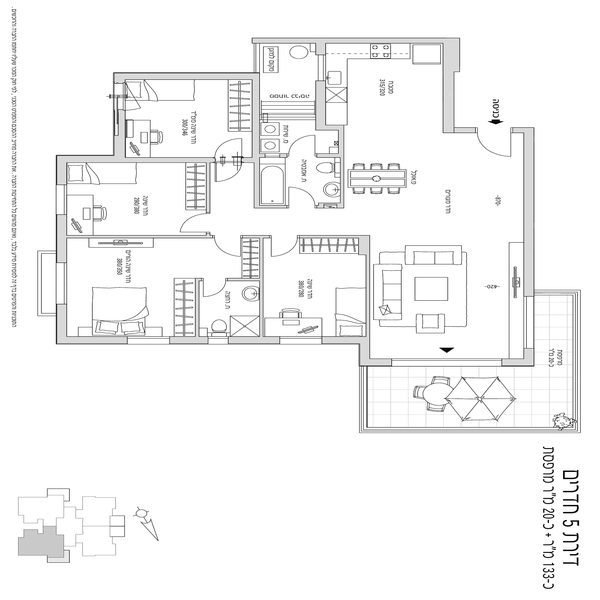door: (477, 128, 514, 162), (265, 233, 298, 270), (212, 134, 248, 164), (284, 185, 319, 215), (175, 207, 213, 234), (211, 161, 247, 187), (286, 131, 317, 160), (198, 271, 226, 302), (213, 237, 244, 261)
room: (361, 221, 547, 372), (51, 232, 267, 348), (337, 15, 458, 210), (248, 28, 356, 218), (50, 151, 259, 234), (260, 225, 380, 347), (109, 65, 257, 162)
wall: (253, 34, 463, 50), (522, 124, 540, 298), (58, 153, 220, 167), (113, 69, 259, 82), (251, 74, 265, 209), (444, 34, 461, 133), (360, 229, 377, 328), (254, 235, 269, 339), (65, 230, 211, 240), (61, 334, 129, 349), (337, 123, 348, 214), (298, 232, 372, 245), (109, 108, 126, 159), (314, 79, 329, 132), (55, 213, 71, 262), (52, 304, 69, 350), (227, 334, 282, 348), (167, 333, 208, 351), (324, 333, 369, 348), (357, 337, 376, 369), (56, 152, 70, 187), (507, 357, 539, 366)
window: (520, 297, 541, 352), (53, 262, 71, 304), (52, 183, 70, 219), (283, 335, 320, 349), (136, 332, 167, 348)
